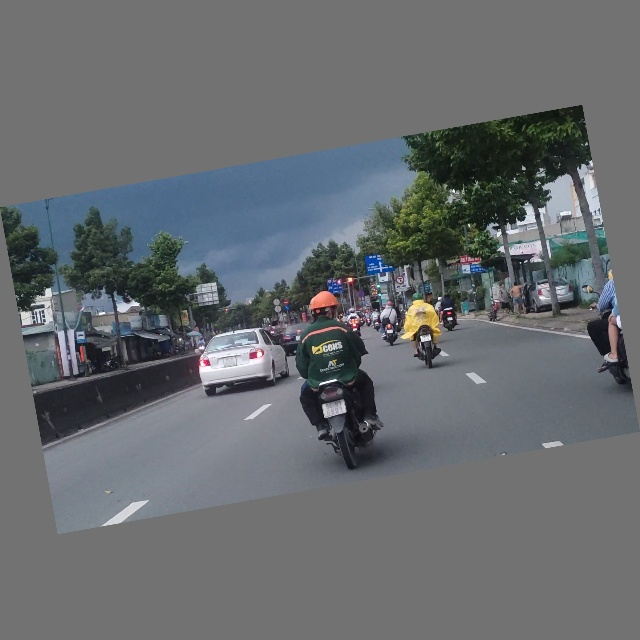P.137: (396, 276, 405, 285)
R.415a: (327, 282, 344, 295)
